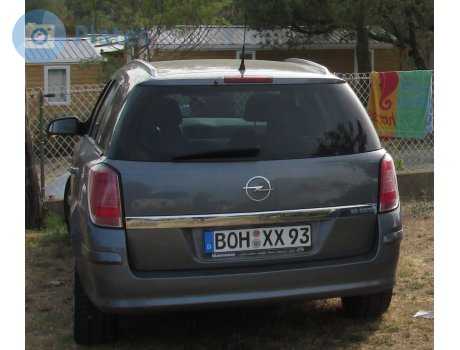License Plates: (216, 231, 313, 246)
